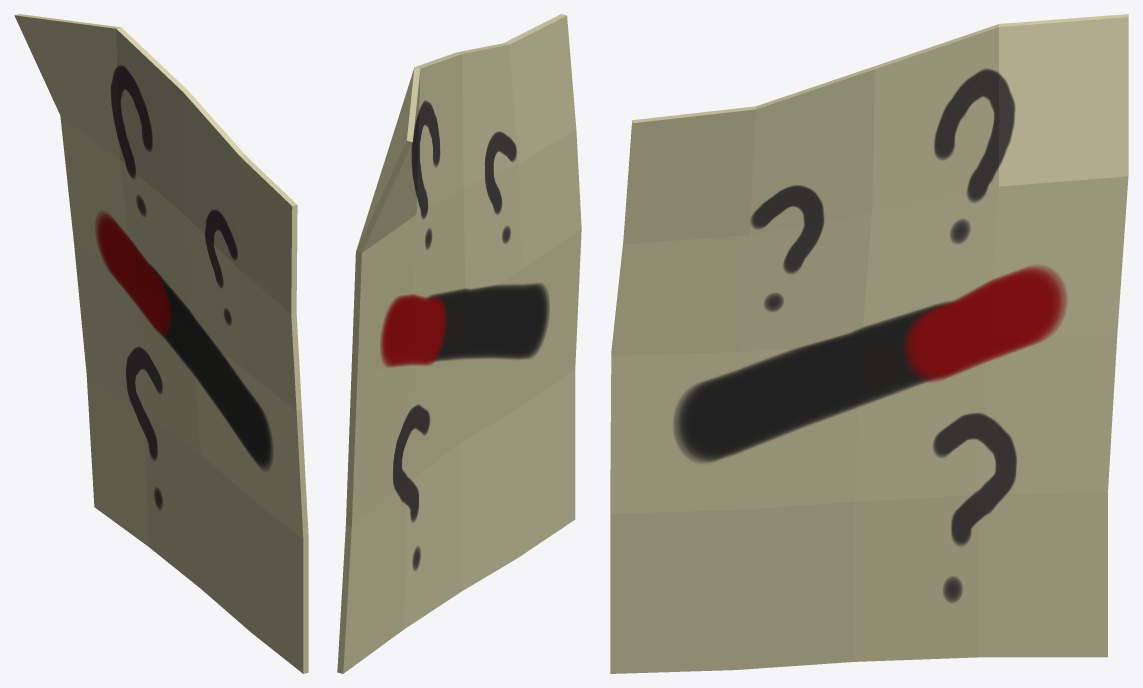
The model's file is dicaPoco.fbx.
3 renders of one model, left to right at view 1: azimuth 30°, elevation 25°; view 2: azimuth 150°, elevation 25°; view 3: azimuth 270°, elevation 25°, orthographic. The views are drawn at different scales.
Parts seen in each view (by area): view 1: Plane; view 2: Plane; view 3: Plane.
Part boxes in pixels (left/top/right/bottom): Plane: left=14, top=14, right=308, bottom=673; Plane: left=337, top=14, right=581, bottom=673; Plane: left=610, top=14, right=1128, bottom=673.
Size of the model in its own units: 8.89 by 58.86 by 43.7.
